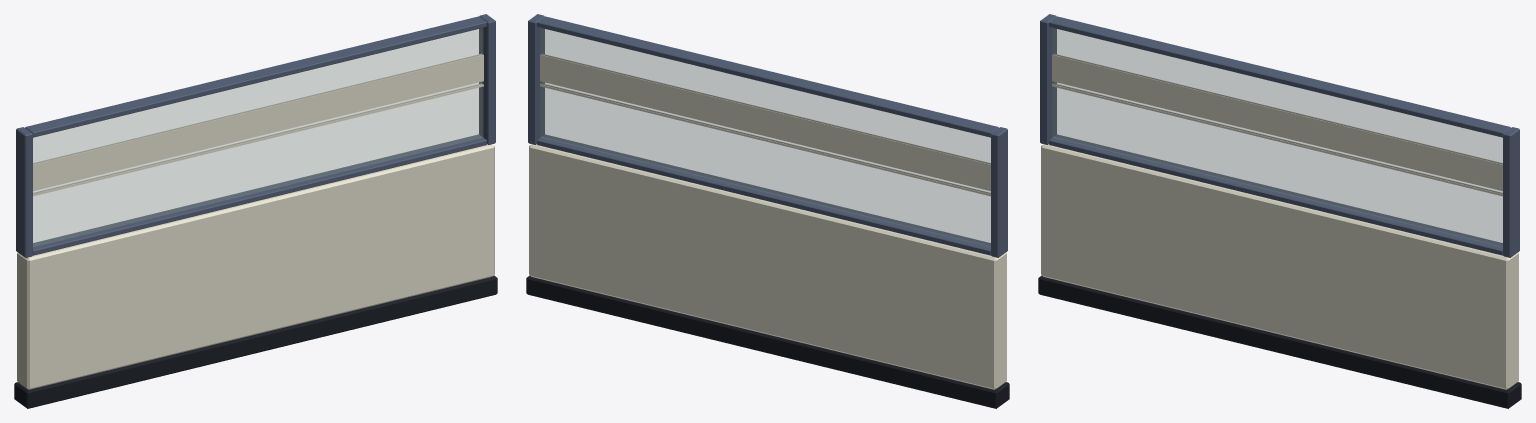
The model's file is bw_treatment_screen.glb.
3 views of the same model, side by side, from view 1: azimuth 30°, elevation 25°; view 2: azimuth 150°, elevation 25°; view 3: azimuth 330°, elevation 25° (orthographic).
Visible parts, largest first — view 1: film_rule, glazing, rail, kick; view 2: film_rule, glazing, rail, kick; view 3: film_rule, glazing, rail, kick.
Boxes of the visible parts, <box> form: film_rule: <box>17,53,494,389</box>; glazing: <box>33,28,483,246</box>; rail: <box>16,14,495,257</box>; kick: <box>14,275,497,408</box>; film_rule: <box>529,53,1006,389</box>; glazing: <box>540,28,990,246</box>; rail: <box>528,14,1007,257</box>; kick: <box>526,275,1009,408</box>; film_rule: <box>1041,53,1518,389</box>; glazing: <box>1052,28,1502,246</box>; rail: <box>1040,14,1519,257</box>; kick: <box>1038,275,1521,408</box>.
Size of the model in its own units: 2.8 by 1.55 by 0.14.
